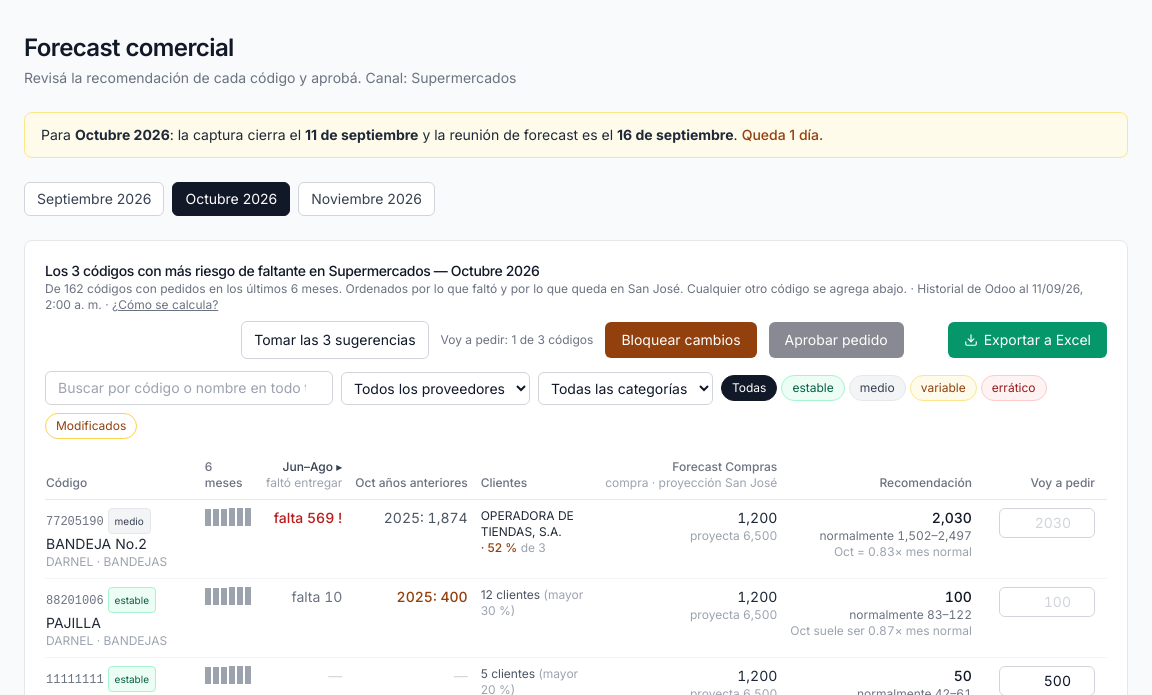
Test: «Tomar las sugerencias» manda las filas visibles: la sugerencia donde la caja está vacía, lo cargado donde no
The width and height of the screenshot is (1152, 695).
Check: the text "77205190" is shown, box [46, 515, 104, 529]
Check: the text with test id "contador" reads "Voy a pedir: 1 de 3 códigos", box [441, 332, 593, 348]
Step 1. Click the button "Tomar las 3 sugerencias" → click(335, 340), box [241, 321, 429, 359]
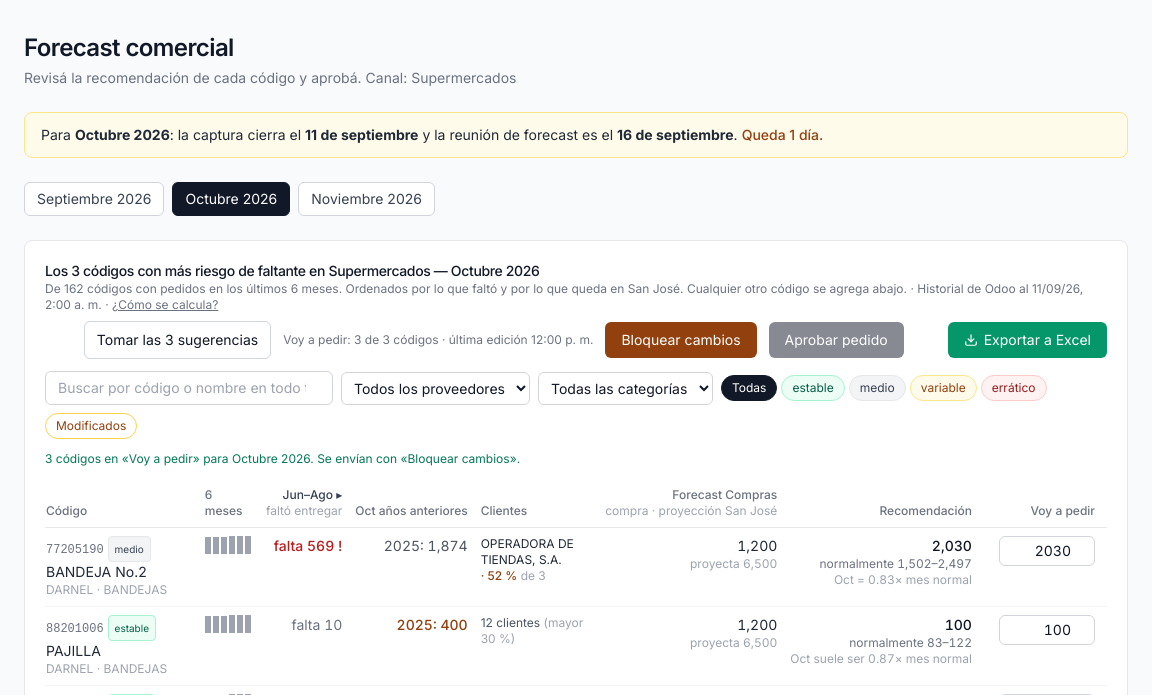
Check: the text "3 códigos en «Voy a pedir» para Octubre 2026" is shown, box [45, 451, 520, 466]
Check: the text with test id "contador" shows "Voy a pedir: 3 de 3 códigos", box [283, 332, 593, 348]
Check: the number field named "Voy a pedir 77205190" holds "2030", box [999, 536, 1095, 566]
